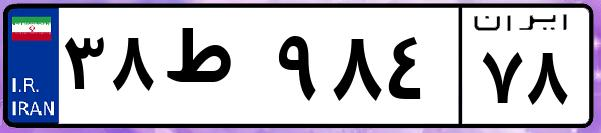3: (57, 26, 110, 100)
4: (385, 28, 445, 110)
7: (475, 38, 525, 113)
8: (330, 28, 385, 110), (525, 38, 570, 115), (110, 28, 158, 98)
9: (270, 28, 330, 110)
ط: (158, 20, 270, 120)
